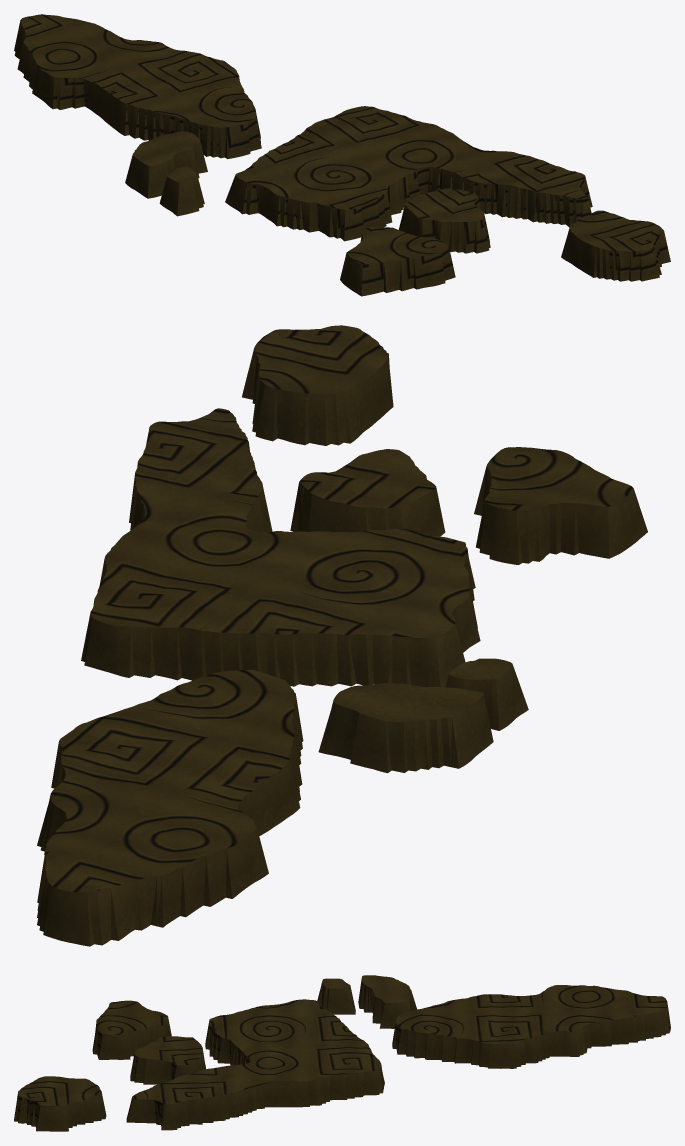
Rendered from CREHenge11.glb.
3 views of the same model, one above another, from view 1: azimuth 30°, elevation 25°; view 2: azimuth 150°, elevation 25°; view 3: azimuth 270°, elevation 25° (orthographic). The views are drawn at different scales.
Parts seen in each view (by area): view 1: CREHenge11_tops; view 2: CREHenge11_tops; view 3: CREHenge11_tops.
Boxes of the visible parts, x1,y1,x2,y2 form: CREHenge11_tops: (14, 14, 670, 296); CREHenge11_tops: (37, 325, 647, 946); CREHenge11_tops: (14, 975, 670, 1131).
Size of the model in its own units: 4.75 by 0.4362 by 9.9.
2 materials, 2 textured.
